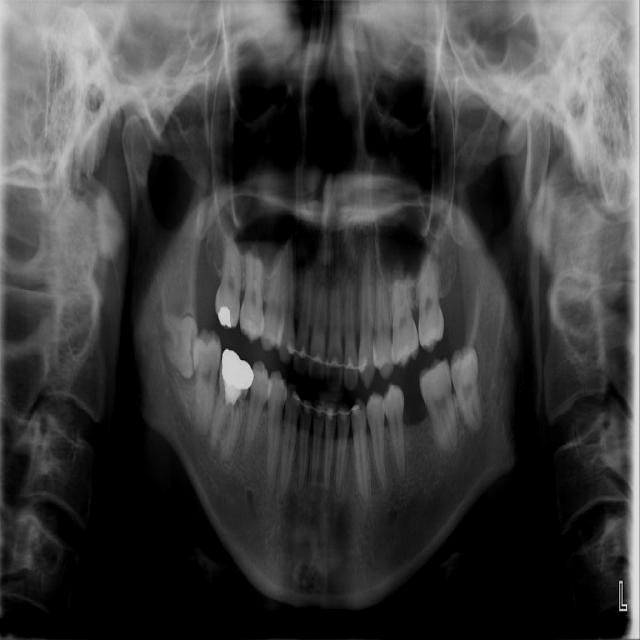Crown: (218, 347, 254, 411)
Filling: (218, 305, 236, 325)
Missing teeth: (399, 379, 429, 424)
impacted tooth: (451, 347, 483, 432), (155, 313, 196, 379)
